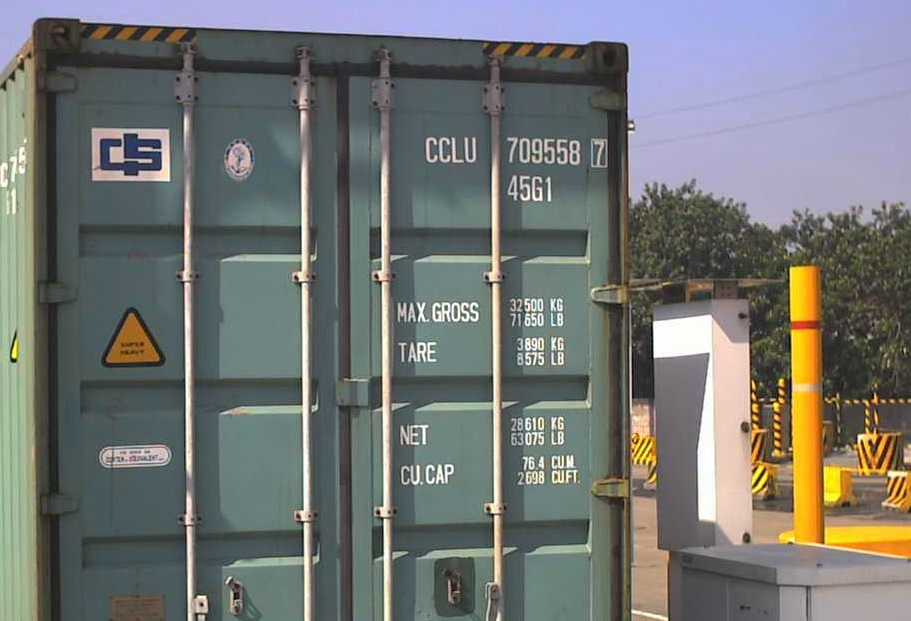container_door: (34, 16, 630, 621)
